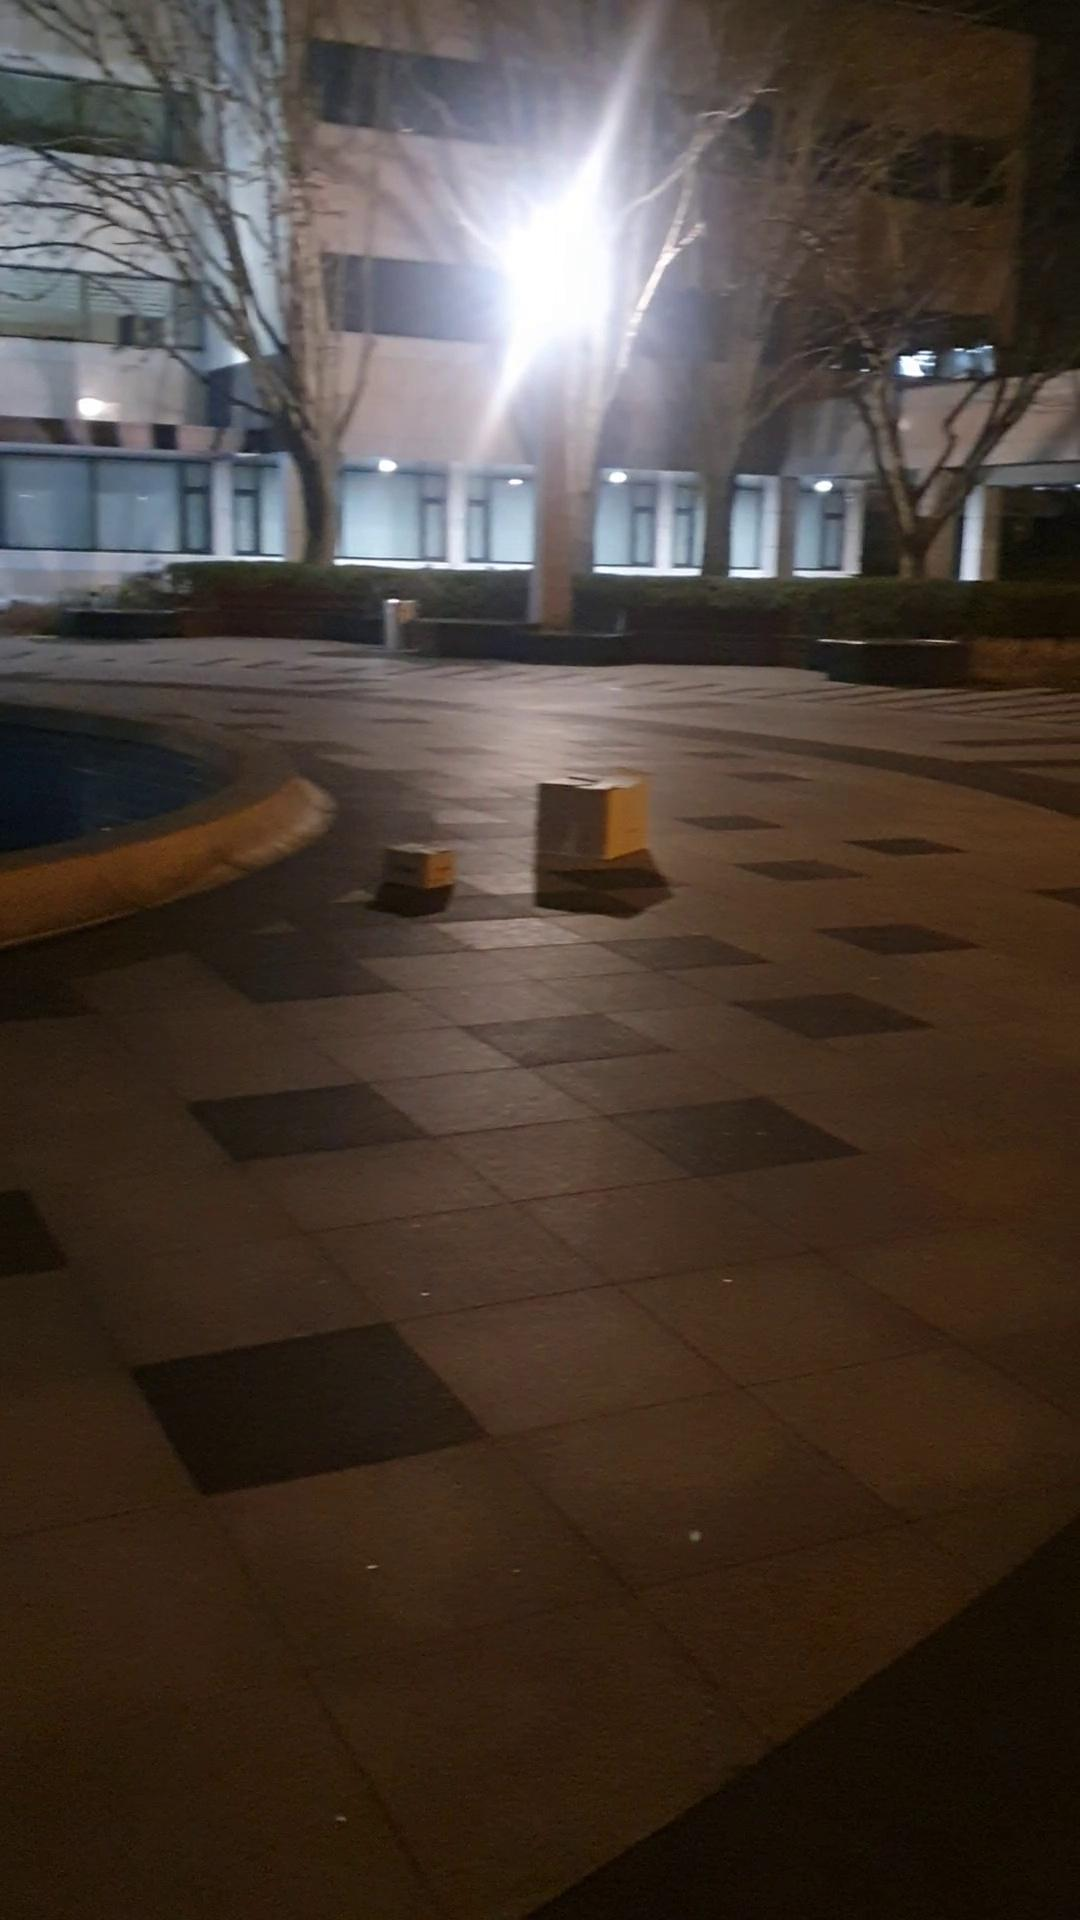Box: (527, 770, 647, 890), (371, 833, 458, 909)
